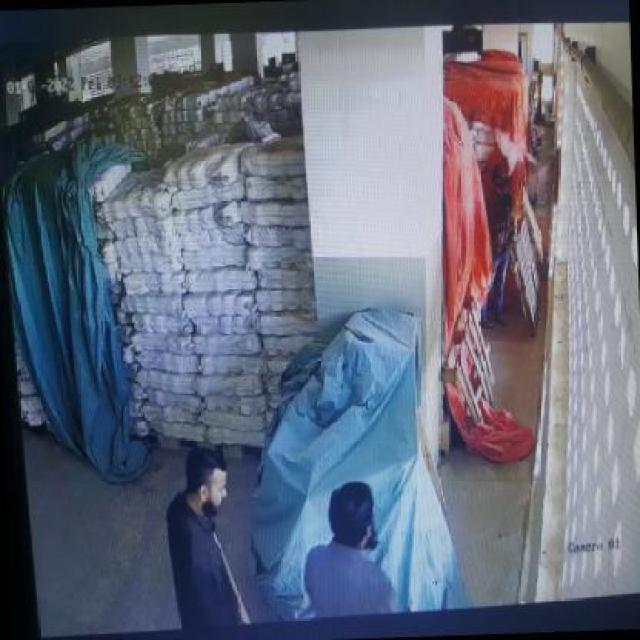fire: (492, 124, 531, 178)
